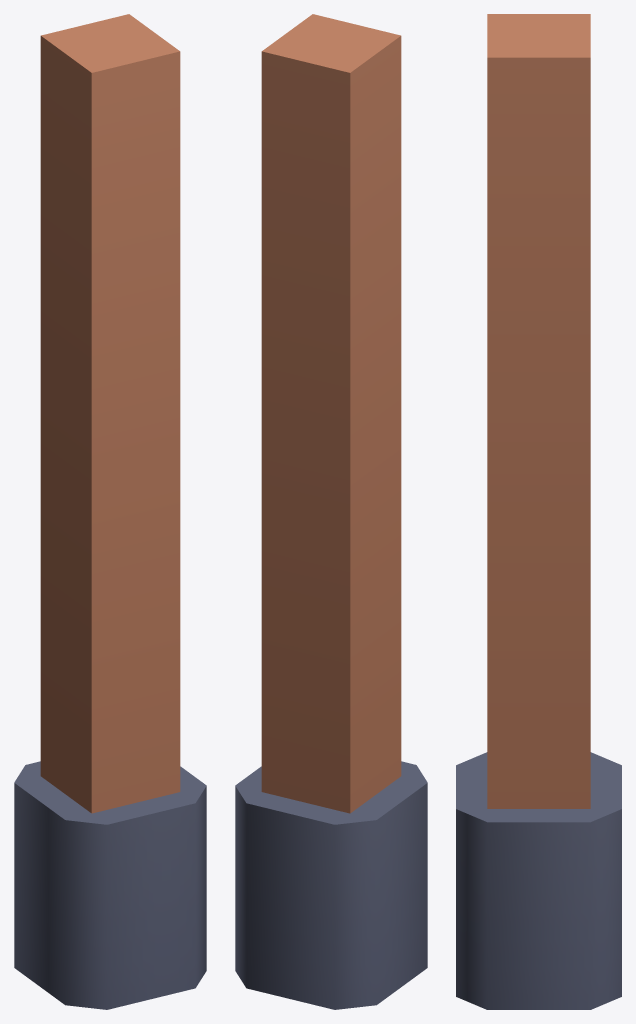
File: pillar_wood.glb
The picture shows the model from 3 angles, left to right: view 1: azimuth 30°, elevation 25°; view 2: azimuth 150°, elevation 25°; view 3: azimuth 270°, elevation 25°; orthographic projection.
Visible parts, largest first — view 1: pillar_wood; view 2: pillar_wood; view 3: pillar_wood.
Boxes of the visible parts, <box> form: pillar_wood: <box>14,14,206,1009</box>; pillar_wood: <box>235,14,427,1009</box>; pillar_wood: <box>456,14,621,1009</box>.
Bounding box in the file's own units: 0.16 × 1 × 0.16.
Materials: 1 (1 with a texture image).
